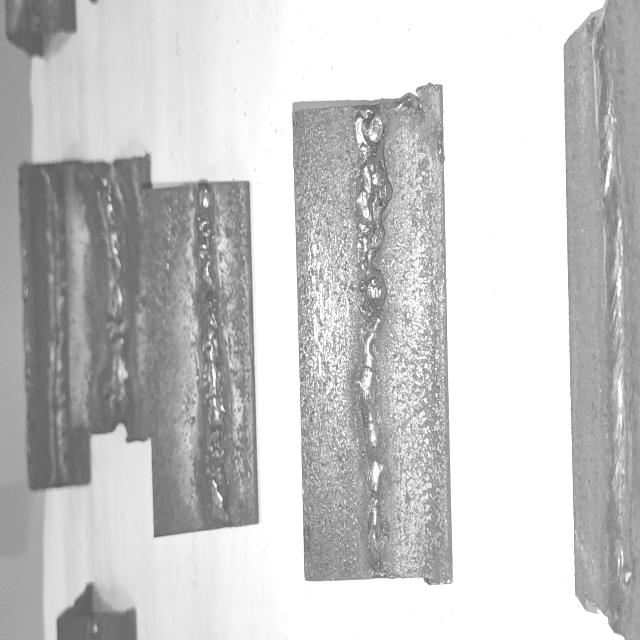Bad Weld: (360, 114, 384, 559), (199, 196, 227, 522), (42, 174, 66, 480), (103, 184, 128, 418)
Defect: (354, 116, 389, 573), (194, 198, 228, 524), (46, 174, 67, 481), (100, 168, 125, 424)
Good Weld: (593, 15, 628, 631)
